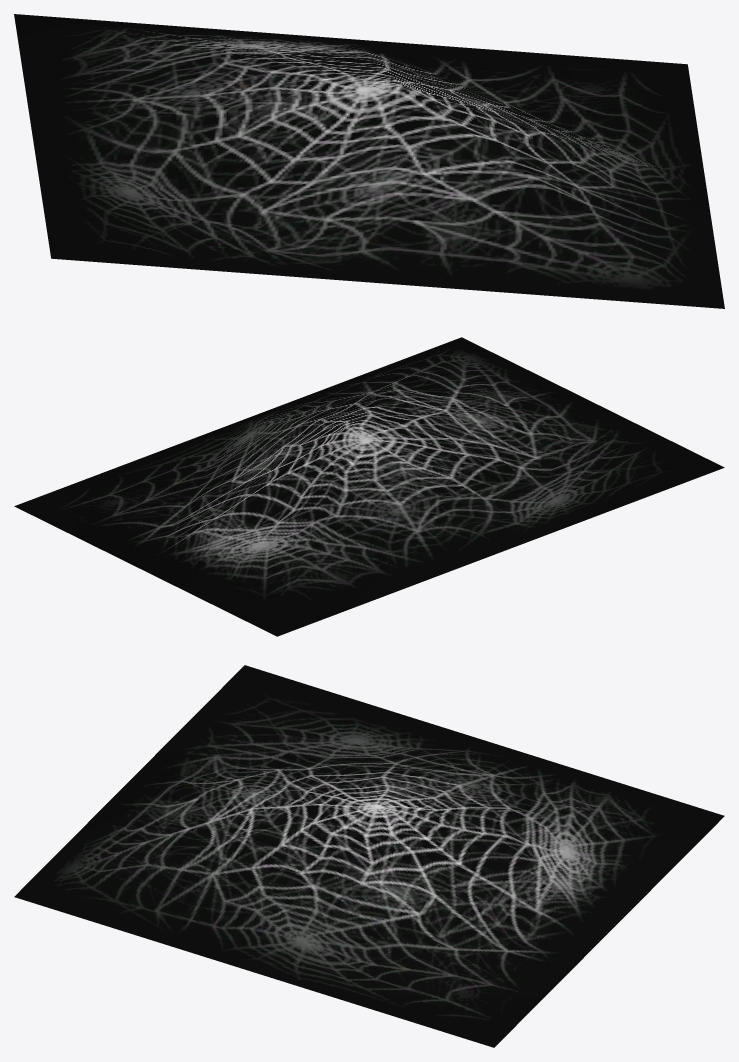
The model's file is MIRKWOOD_PLANE48.fbx.
The picture shows the model from 3 angles, top to bottom: view 1: azimuth 30°, elevation 25°; view 2: azimuth 150°, elevation 25°; view 3: azimuth 270°, elevation 25°; orthographic projection. The views are drawn at different scales.
Parts seen in each view (by area): view 1: MIRKWOOD_PLANE48; view 2: MIRKWOOD_PLANE48; view 3: MIRKWOOD_PLANE48.
Boxes of the visible parts, left/top/right/bottom form: MIRKWOOD_PLANE48: left=14, top=14, right=724, bottom=308; MIRKWOOD_PLANE48: left=14, top=337, right=724, bottom=636; MIRKWOOD_PLANE48: left=14, top=665, right=724, bottom=1047.
Bounding box in the file's own units: 147752 × 23664 × 153085.
1 material, 1 textured.
